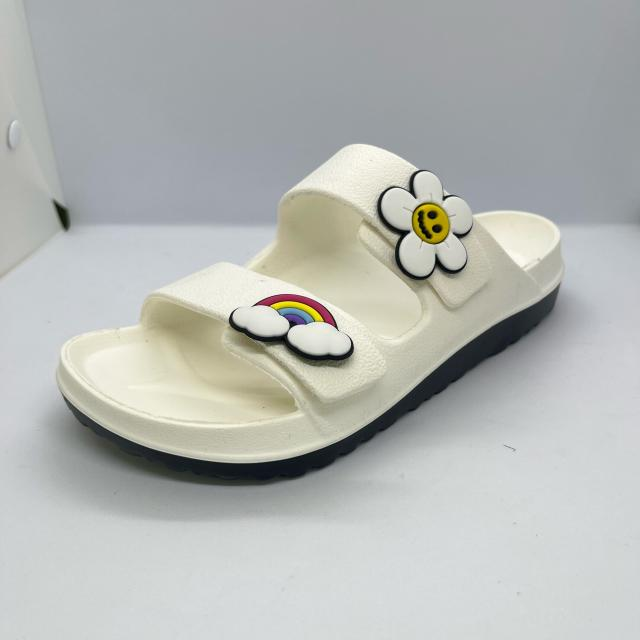shoe: (56, 148, 565, 476)
